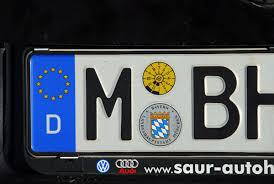B: (190, 64, 241, 140)
H: (243, 65, 274, 141)
M: (82, 66, 135, 144)
